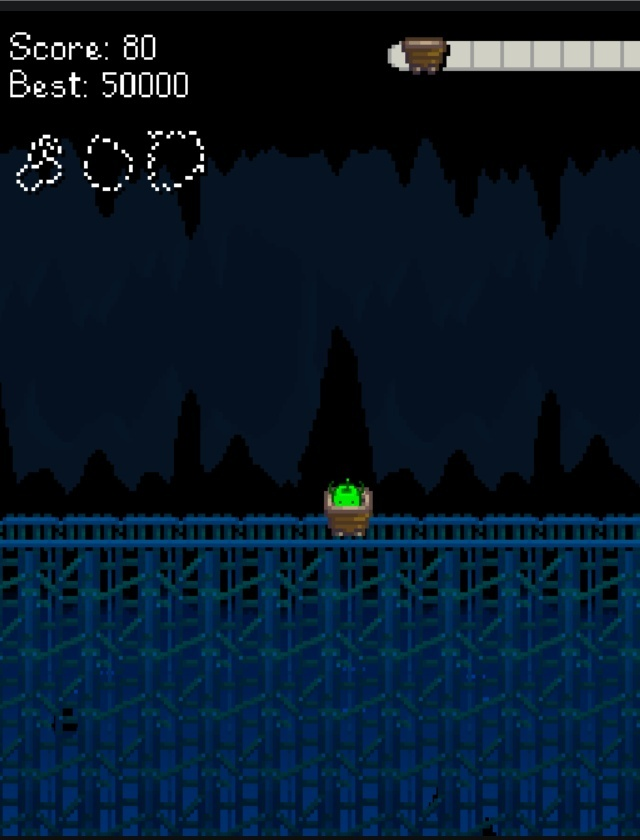minecart: (324, 479, 371, 535)
score: (118, 31, 162, 65)
tracks: (2, 507, 316, 555)
